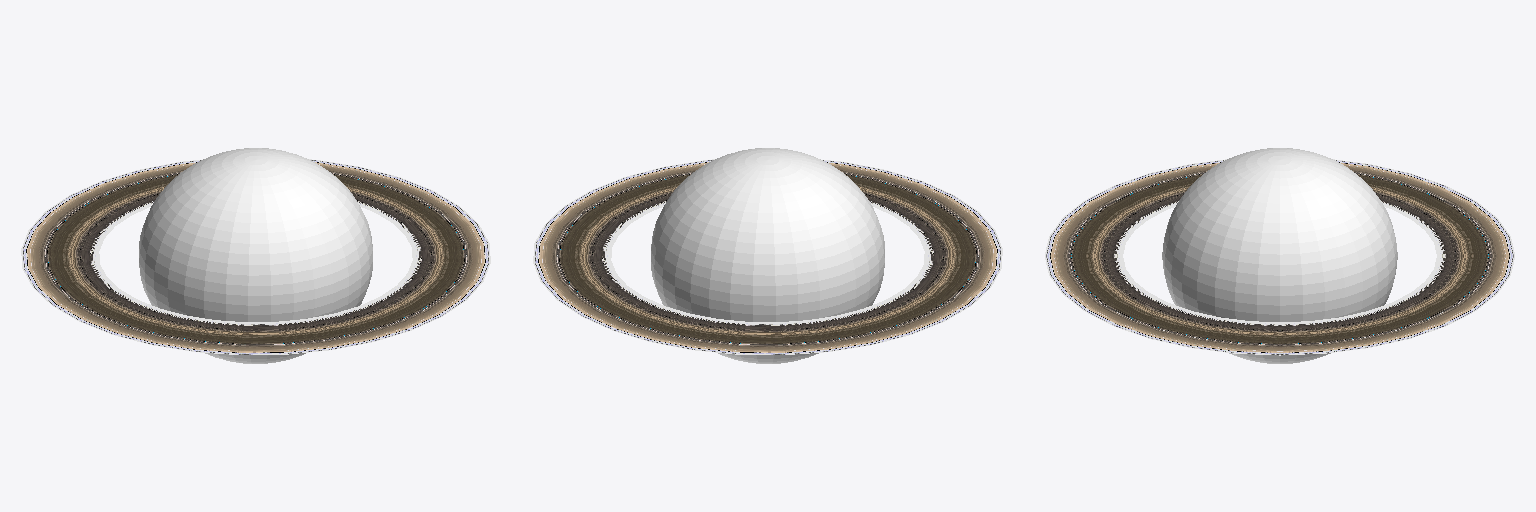
3 renders of one model, left to right at view 1: azimuth 30°, elevation 25°; view 2: azimuth 150°, elevation 25°; view 3: azimuth 270°, elevation 25°, orthographic.
Visible parts, largest first — view 1: Saturn_Rings_Circle, Saturn_Planet_Sphere; view 2: Saturn_Rings_Circle, Saturn_Planet_Sphere; view 3: Saturn_Rings_Circle, Saturn_Planet_Sphere.
Part boxes in pixels (x1,y1,x2,y2): Saturn_Rings_Circle: (21, 159, 490, 354); Saturn_Planet_Sphere: (139, 148, 372, 363); Saturn_Rings_Circle: (533, 159, 1002, 354); Saturn_Planet_Sphere: (651, 148, 884, 363); Saturn_Rings_Circle: (1045, 159, 1514, 355); Saturn_Planet_Sphere: (1162, 148, 1397, 363).
Bounding box in the file's own units: 188 × 84.6 × 188.
2 materials, 1 textured.